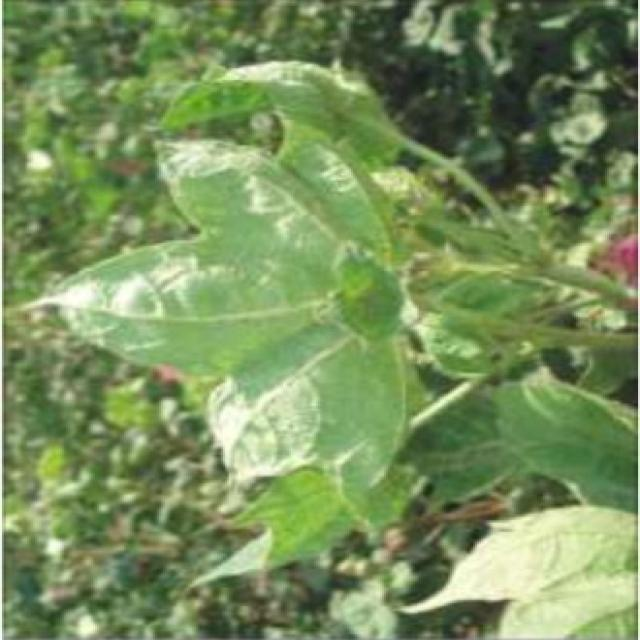Leaf Curl Virus: (168, 141, 449, 579)
